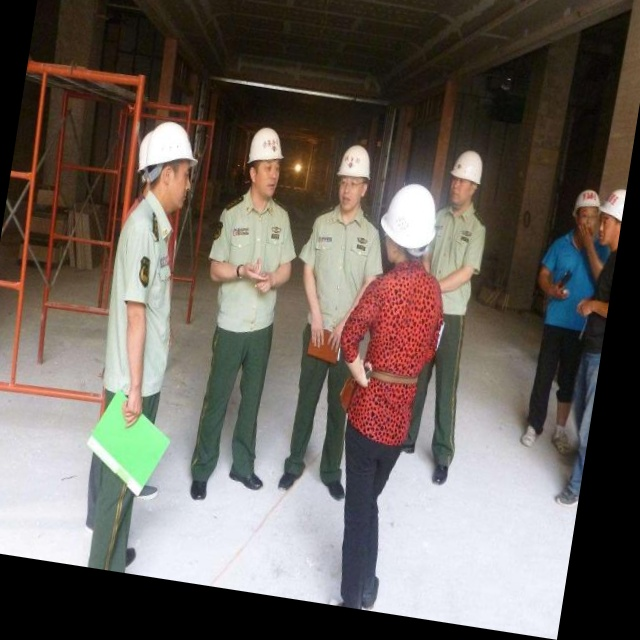Con_Casco: (375, 179, 442, 267), (241, 125, 287, 197), (330, 141, 376, 209)
